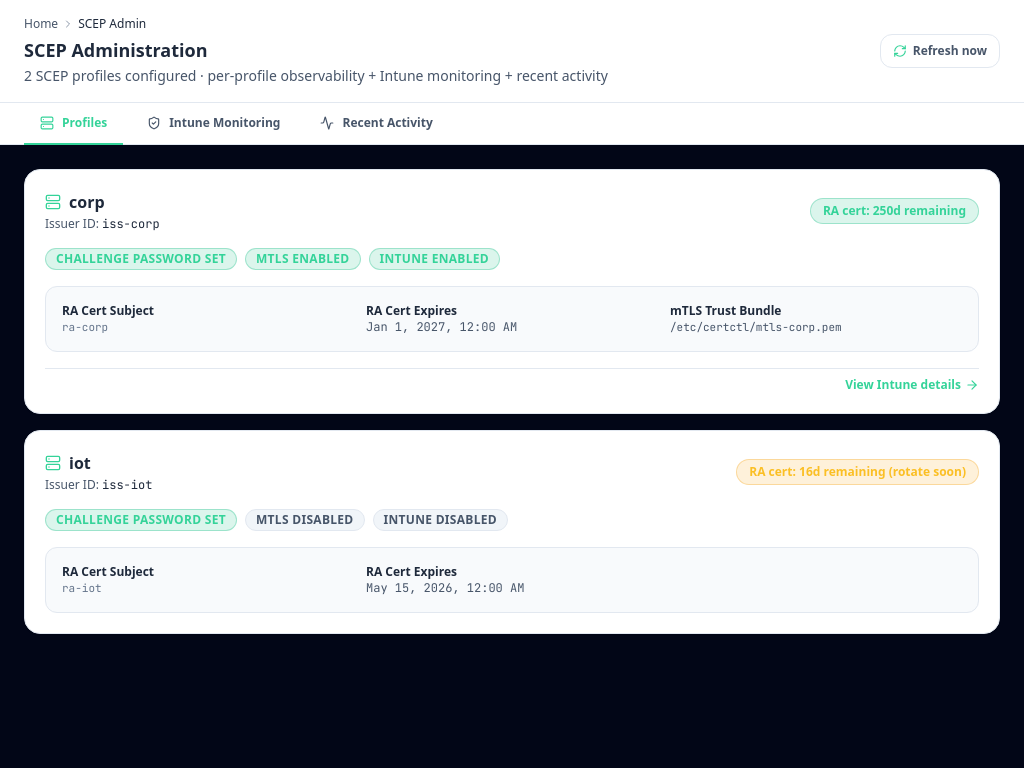
Test case: SCEPAdminPage — Profiles tab cards › "View Intune details →" only renders for Intune-enabled profiles AND switches tabs
Expected: the element with test id "profile-summary-corp" is shown, [24,169,1000,414]
Click the button with test id "view-intune-details-corp" at (912, 385), box [845,377,979,393]
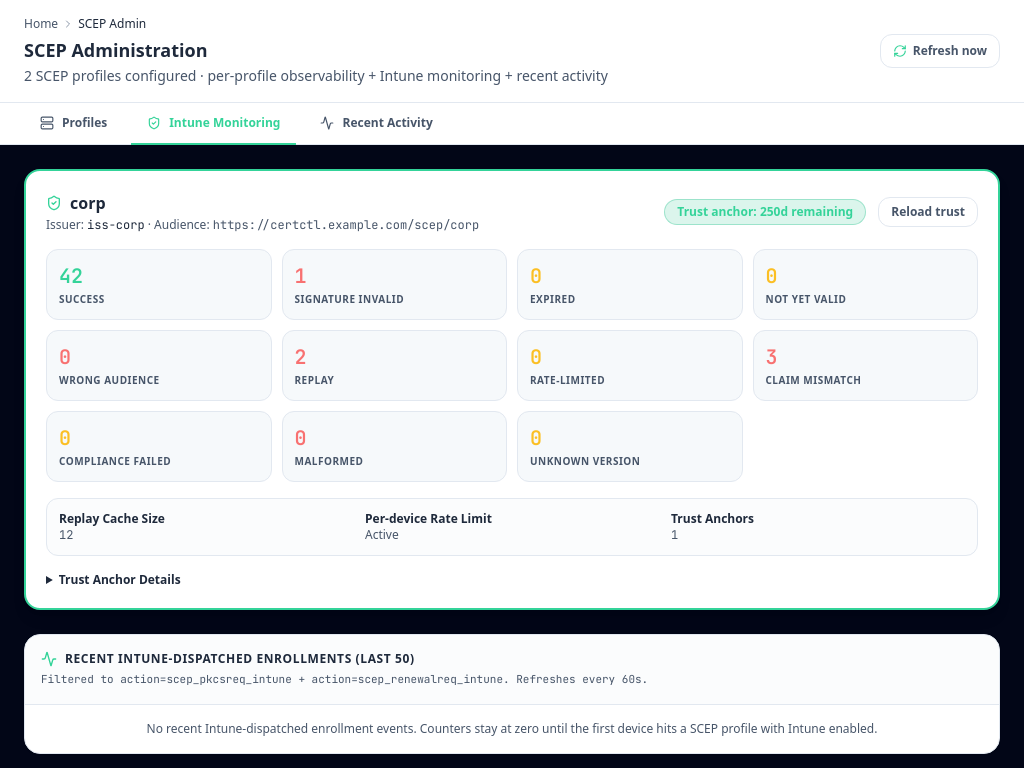
Expected: the element with test id "profile-card-corp" is shown, [24,169,1000,610]
